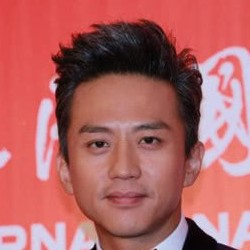unmask: (64, 108, 191, 238)
